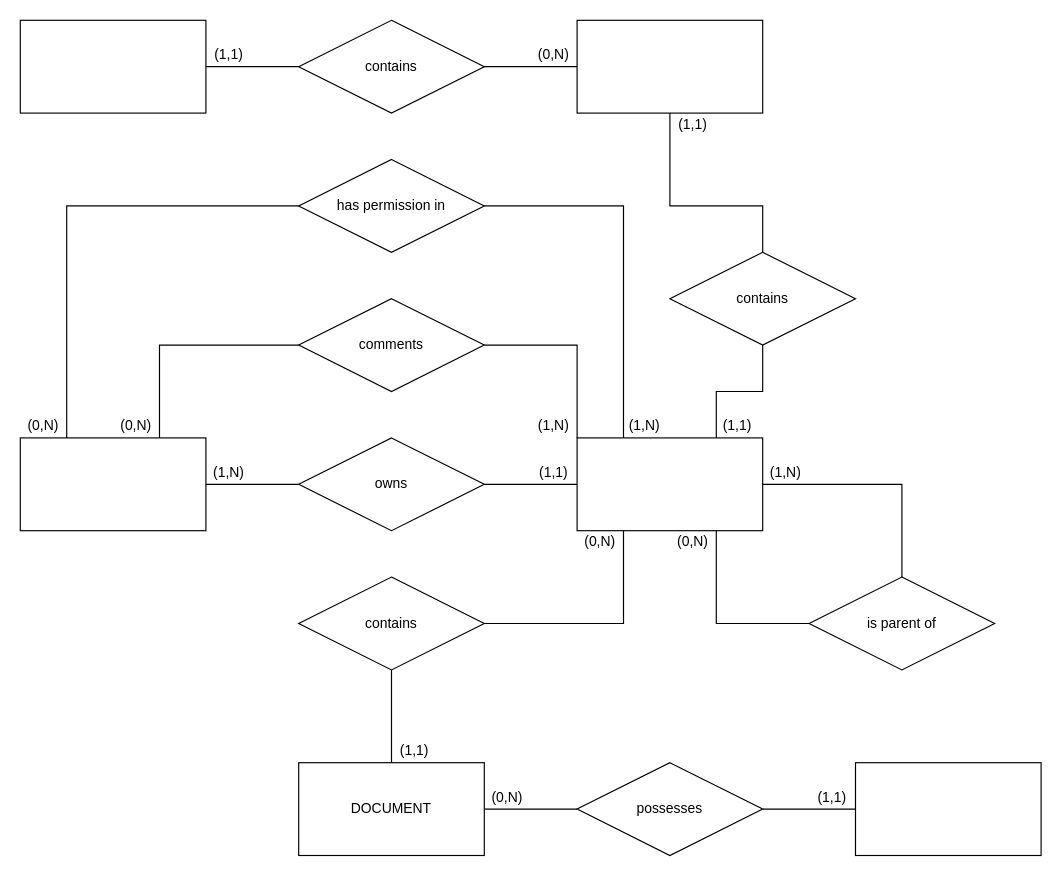
Some shapes in this 1061 by 876 pixel diagram are drawn without their labels. The centre of each missing label's shape, as x and y in pixels:
PENDING EDIT: (947,808)
PROJECT: (669,484)
TODO ENTRY: (112,66)
TODO LIST: (669,66)
USER: (112,484)
